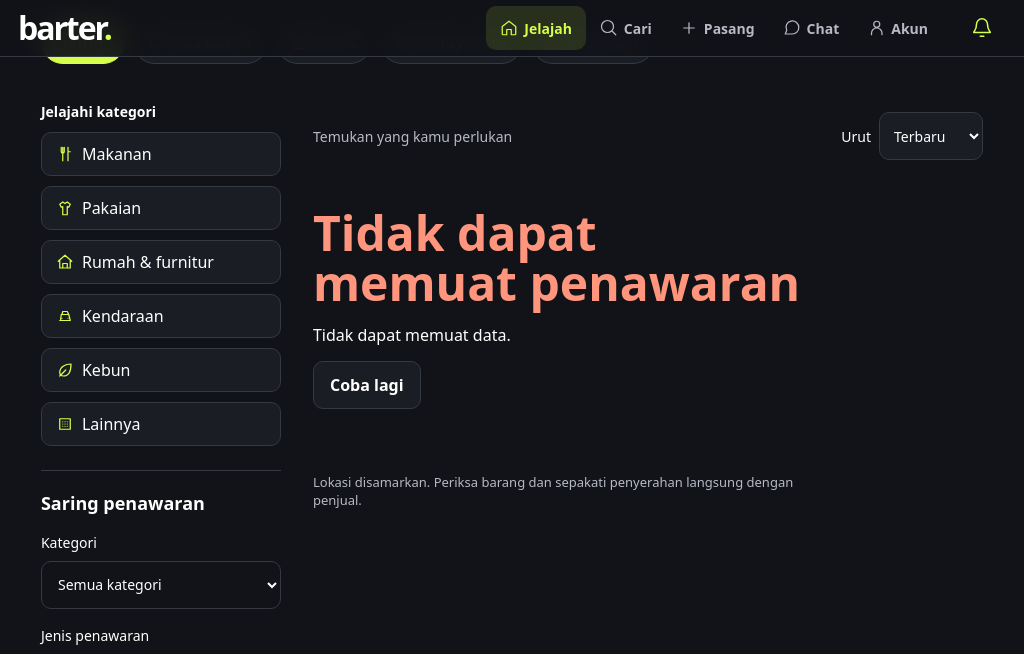
Test: retries a transport failure instead of rendering fake listings
The image size is (1024, 654).
(page scrolled)
Check: the message shows "Tidak dapat memuat", box [313,200,800,315]
Click the button "Coba lagi": (367, 385) [313,361,421,409]
(page scrolled)
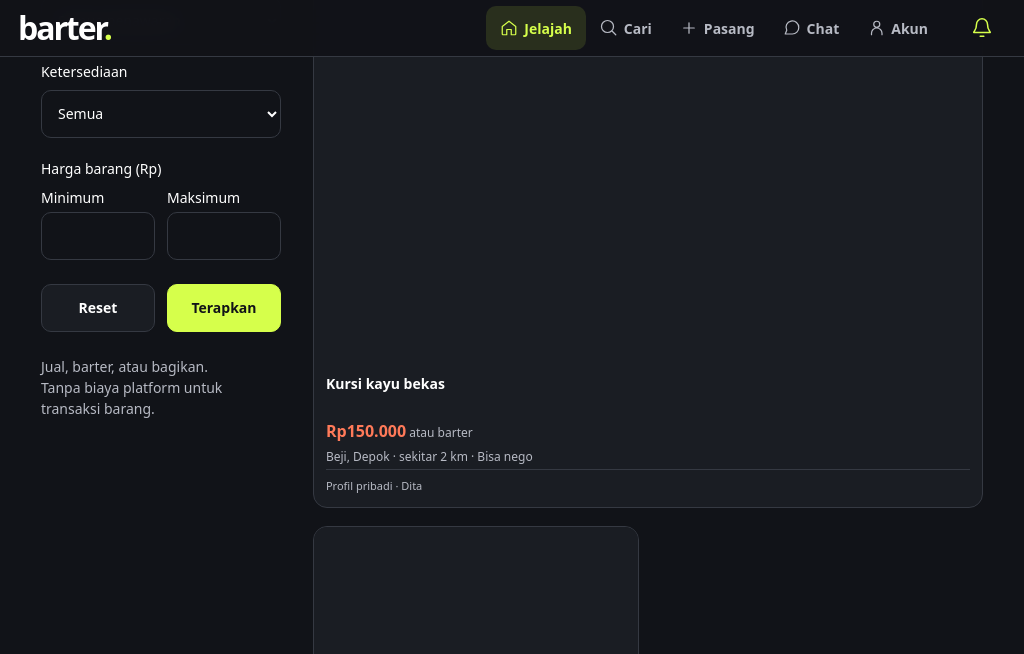
Check: the link "Kursi kayu bekas" is shown, box [326,375,445,393]
